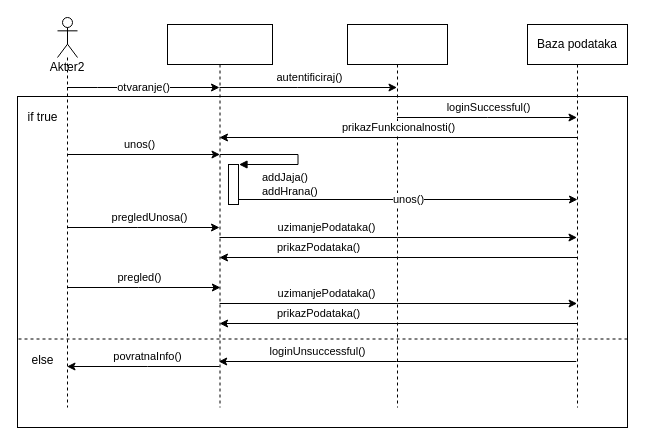
The diagram is 646 pixels wide and 445 high, and some of its shapes have lost their labels. The box of each missing label's shape, as (x1, y1, x2, y2) in pixels:
Autentifikacija: (346, 24, 448, 408)
Web aplikacija: (166, 24, 272, 408)
